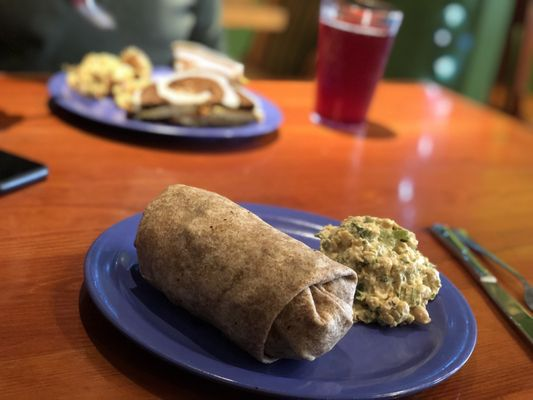pizza: (312, 0, 404, 131)
sandwich: (430, 224, 533, 352)
soup: (134, 183, 357, 365)
